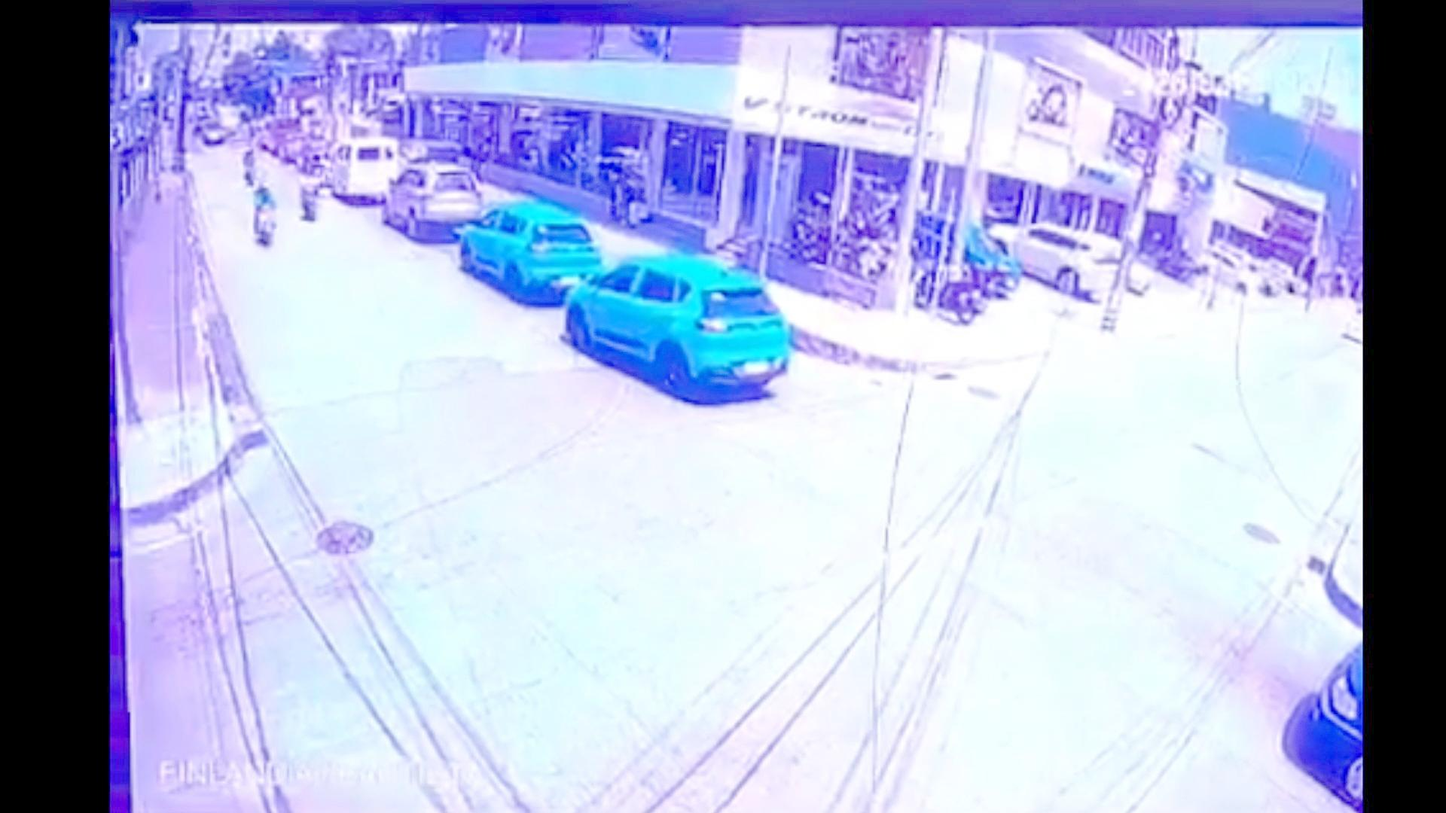Car: (569, 254, 791, 399), (456, 200, 607, 304), (1282, 627, 1362, 810), (991, 222, 1126, 301), (910, 216, 1022, 302), (382, 160, 488, 238), (1202, 242, 1293, 297), (328, 138, 401, 202), (400, 138, 462, 166), (197, 110, 236, 145)
Motor: (913, 252, 979, 315), (1148, 241, 1205, 282), (251, 181, 280, 243), (300, 176, 322, 221), (242, 151, 257, 187)
